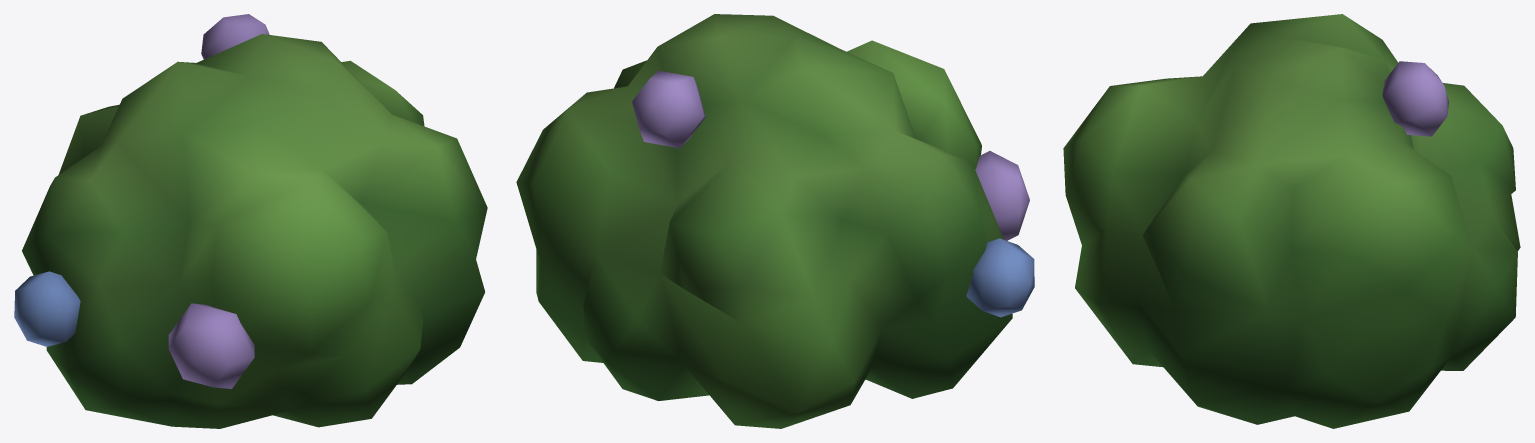
Rendered from bush-a-summer.lod1.glb.
The picture shows the model from 3 angles, left to right: view 1: azimuth 30°, elevation 25°; view 2: azimuth 150°, elevation 25°; view 3: azimuth 270°, elevation 25°; orthographic projection. The views are drawn at different scales.
Parts seen in each view (by area): view 1: bush-a-summer.lod1; view 2: bush-a-summer.lod1; view 3: bush-a-summer.lod1.
Part boxes in pixels (box(x1,y1,x2,y2)): bush-a-summer.lod1: box(14, 14, 487, 428); bush-a-summer.lod1: box(516, 14, 1034, 428); bush-a-summer.lod1: box(1063, 14, 1520, 428).
Bounding box in the file's own units: 1.09 × 0.8047 × 0.9672.
